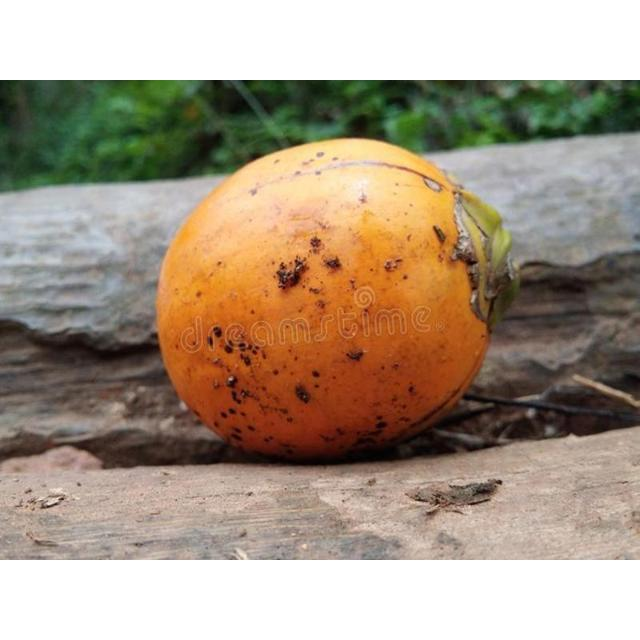good: (155, 138, 518, 465)
